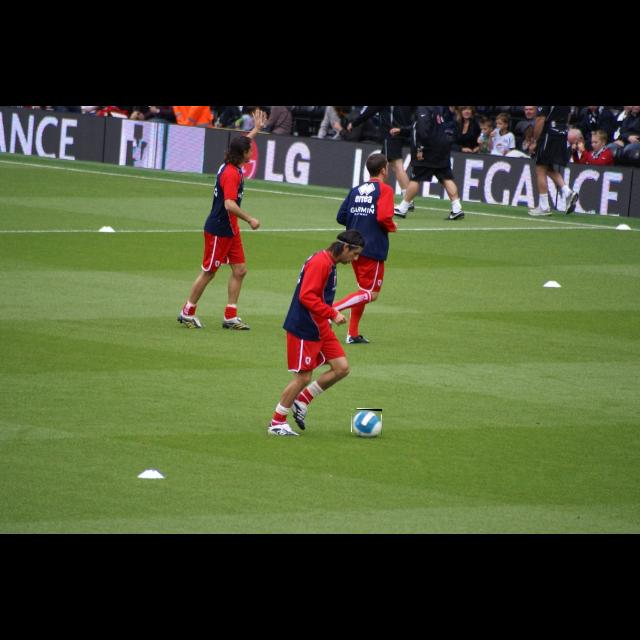Football: (352, 409, 382, 435)
